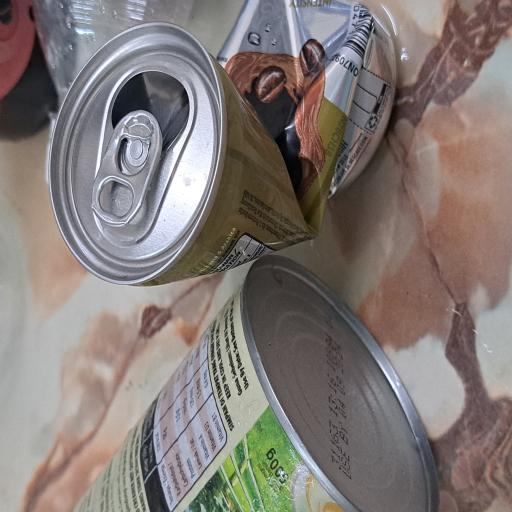can: (166, 67, 383, 512), (0, 92, 192, 512)
pop tab: (215, 122, 303, 216)
